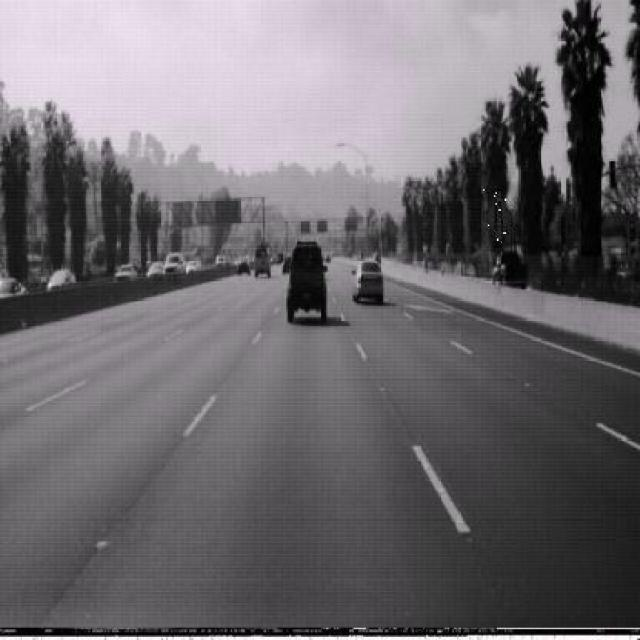laneEnds: (483, 189, 511, 245)
